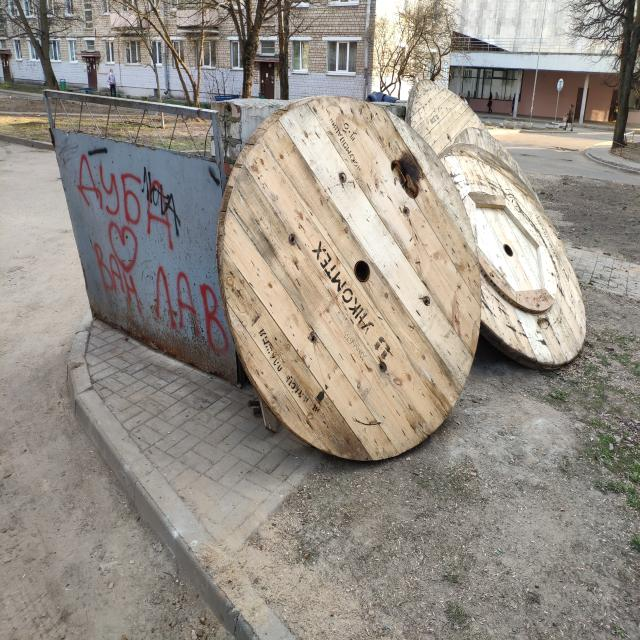entulho: (214, 96, 471, 462), (440, 147, 589, 369), (404, 80, 548, 214)
